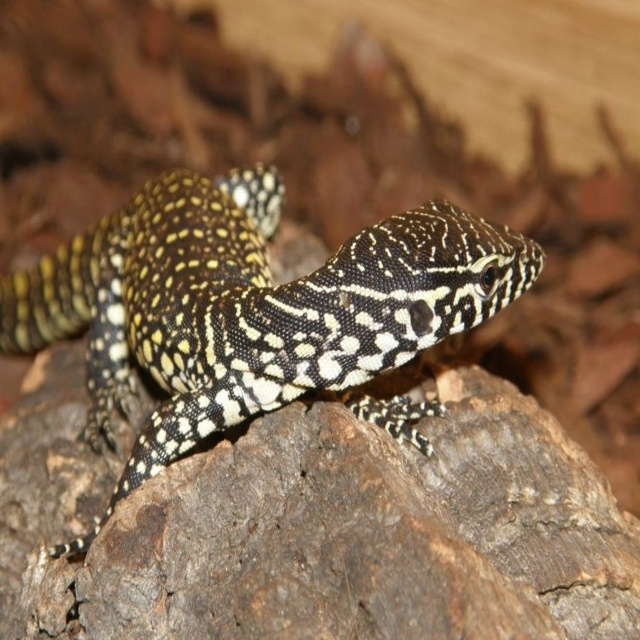Lizard: (7, 164, 550, 563)
